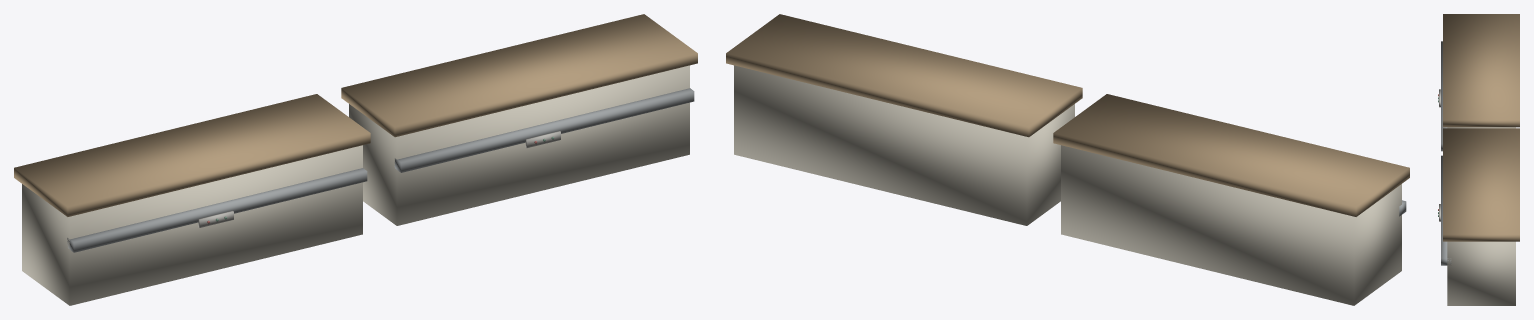
Rendered from diner_counter__cluster.glb.
3 renders of one model, left to right at view 1: azimuth 30°, elevation 25°; view 2: azimuth 150°, elevation 25°; view 3: azimuth 270°, elevation 25°, orthographic. The views are drawn at different scales.
Parts seen in each view (by area): view 1: world; view 2: world; view 3: world.
Boxes of the visible parts, box(x1,y1,x2,y2) form: world: box(14, 14, 697, 305); world: box(726, 14, 1409, 305); world: box(1438, 14, 1519, 305).
Bounding box in the file's own units: 5.16 × 0.8 × 0.811.
